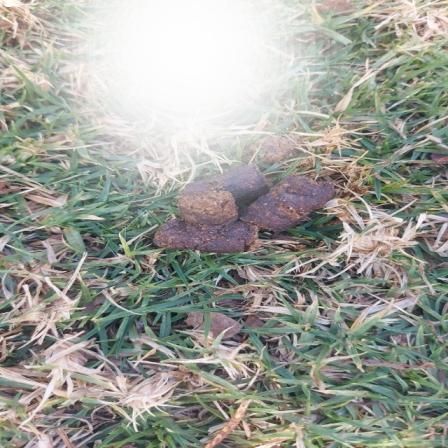dog-poop: (168, 167, 323, 252)
